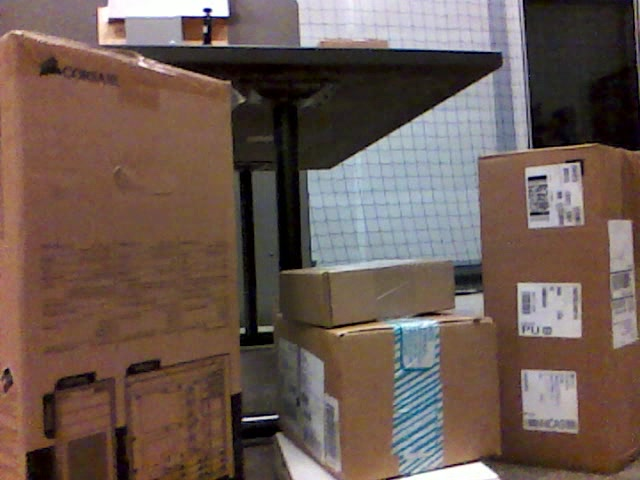box: (3, 32, 244, 480), (479, 151, 640, 473), (275, 311, 498, 480), (284, 261, 456, 320)
